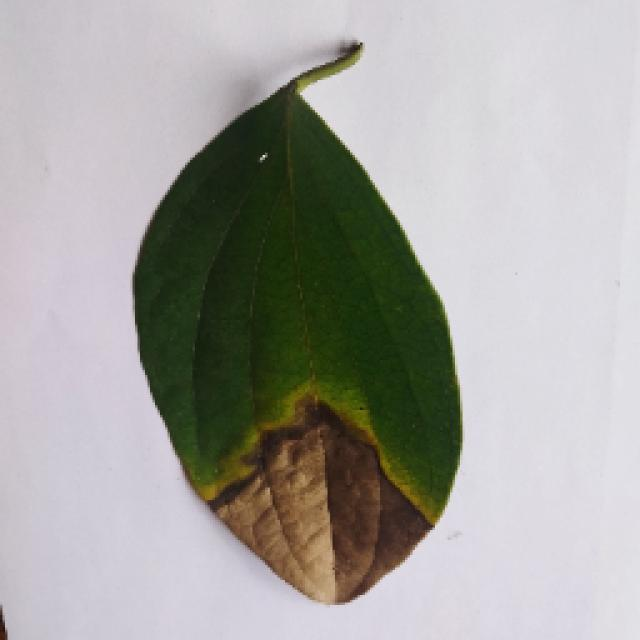footrot: (128, 50, 462, 605)
